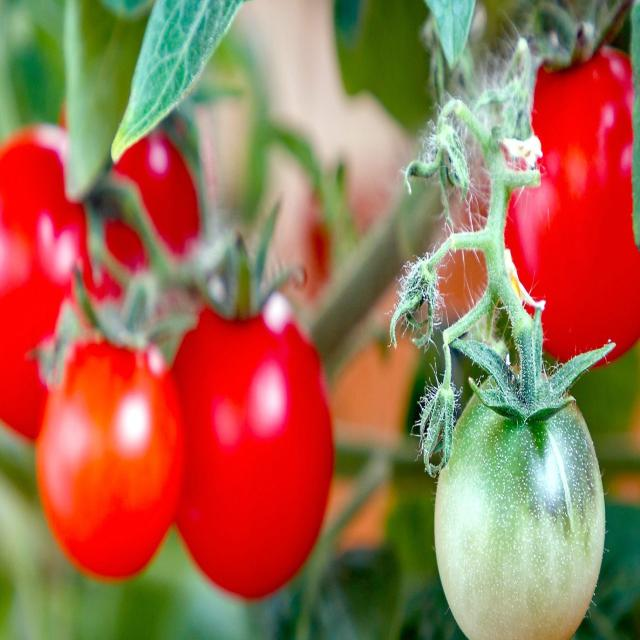level 2: (434, 370, 606, 640)
level 6: (164, 300, 337, 602), (488, 44, 640, 369), (0, 122, 131, 446), (56, 82, 212, 347), (34, 331, 184, 575), (307, 191, 358, 275)
